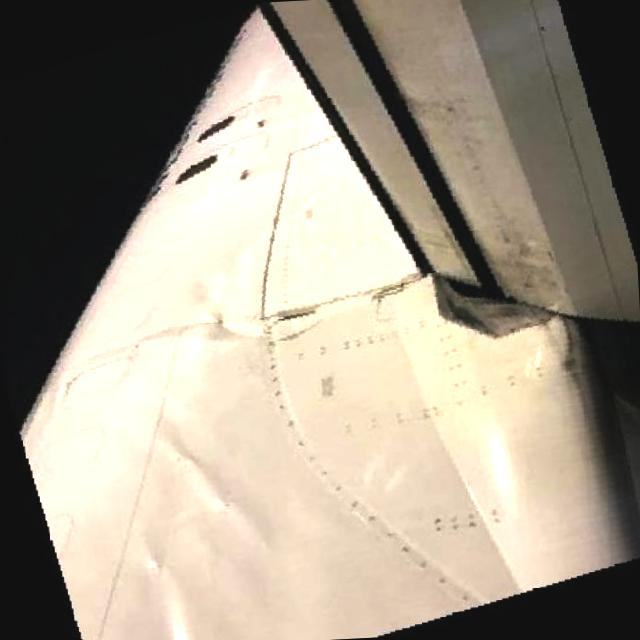dent: (164, 433, 249, 543), (188, 275, 264, 356), (141, 548, 189, 640), (276, 287, 318, 343), (358, 449, 403, 499), (476, 439, 508, 504)
